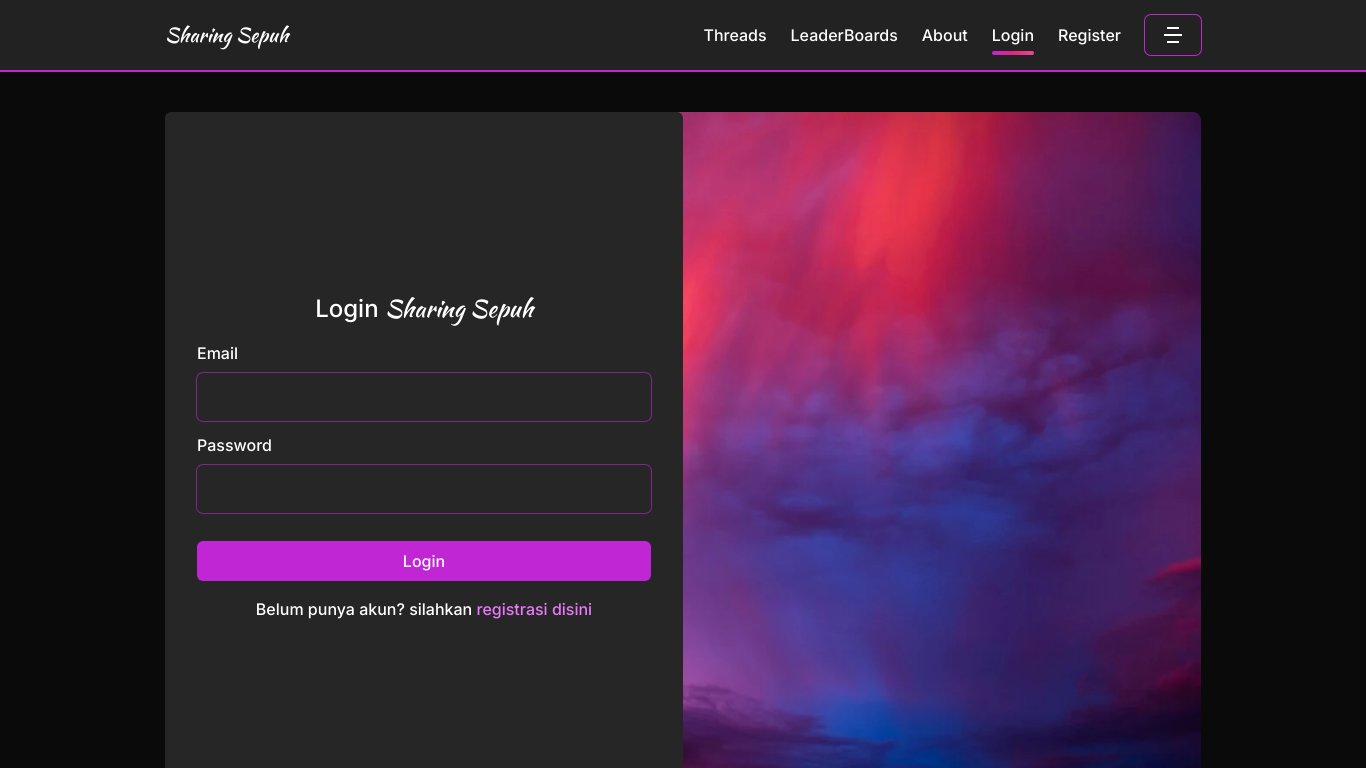
it: login spec › should display input note error and button login disable when password less than 6 character
Type "12345" into the password field labelled "Password". click: (424, 489)
box: [197,465,651,513]
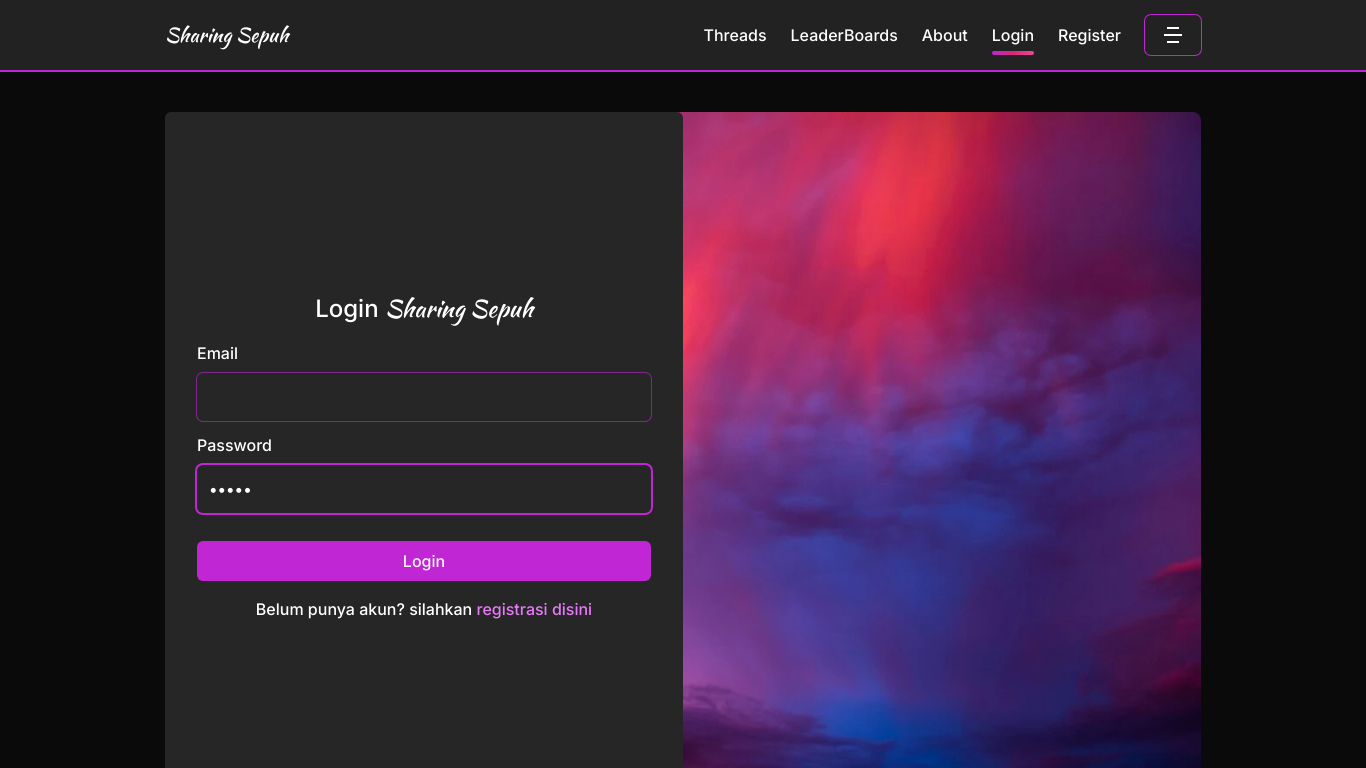
Submit the form, box [197,341,651,581]
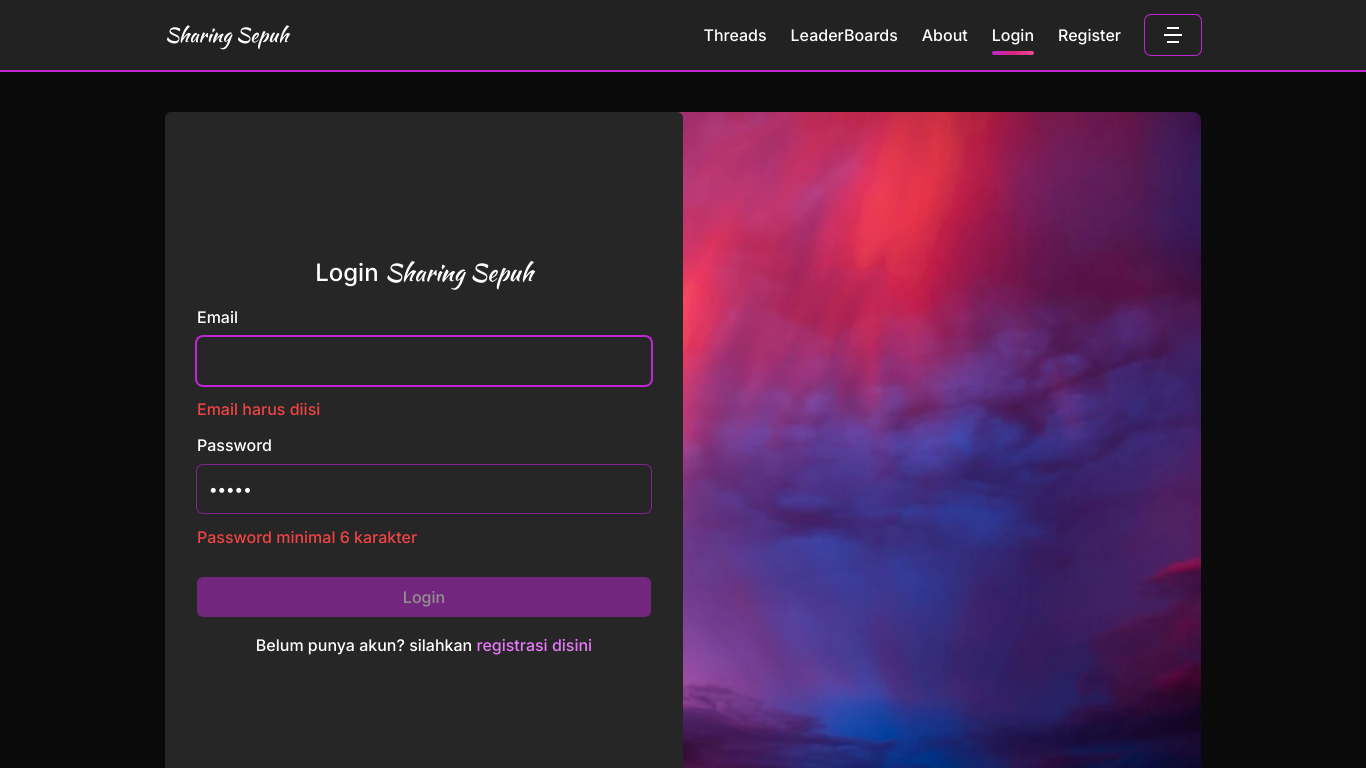
Expected: the button "Login" next to "About" is disabled, [992,23,1034,47]
Expected: the text "Email harus diisi" is shown, [197,399,320,419]
Expected: the text "Password minimal 6 karakter" is shown, [197,527,417,547]
